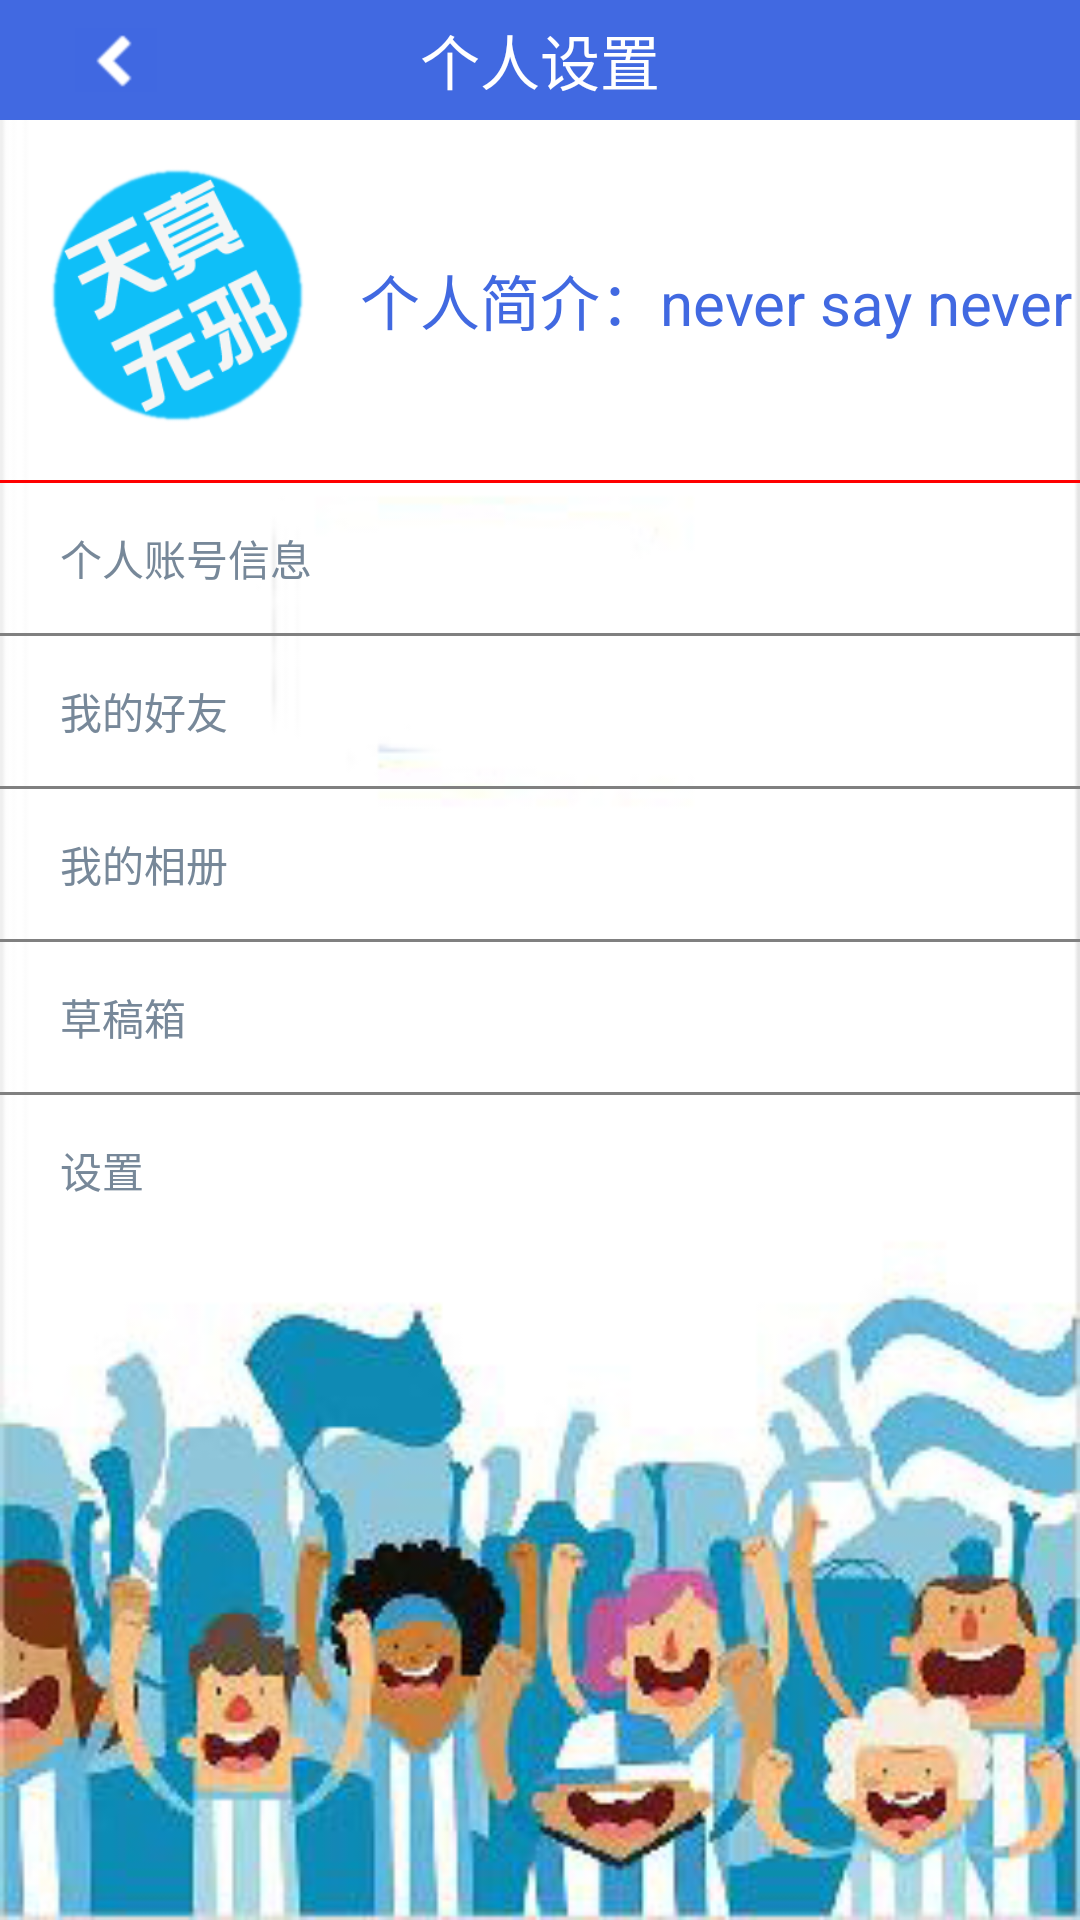

Where to tap for icons on this 1080*1920 app screen, as (x=x, y=y):
backward: (x=114, y=61)
touxiang: (x=177, y=295)
